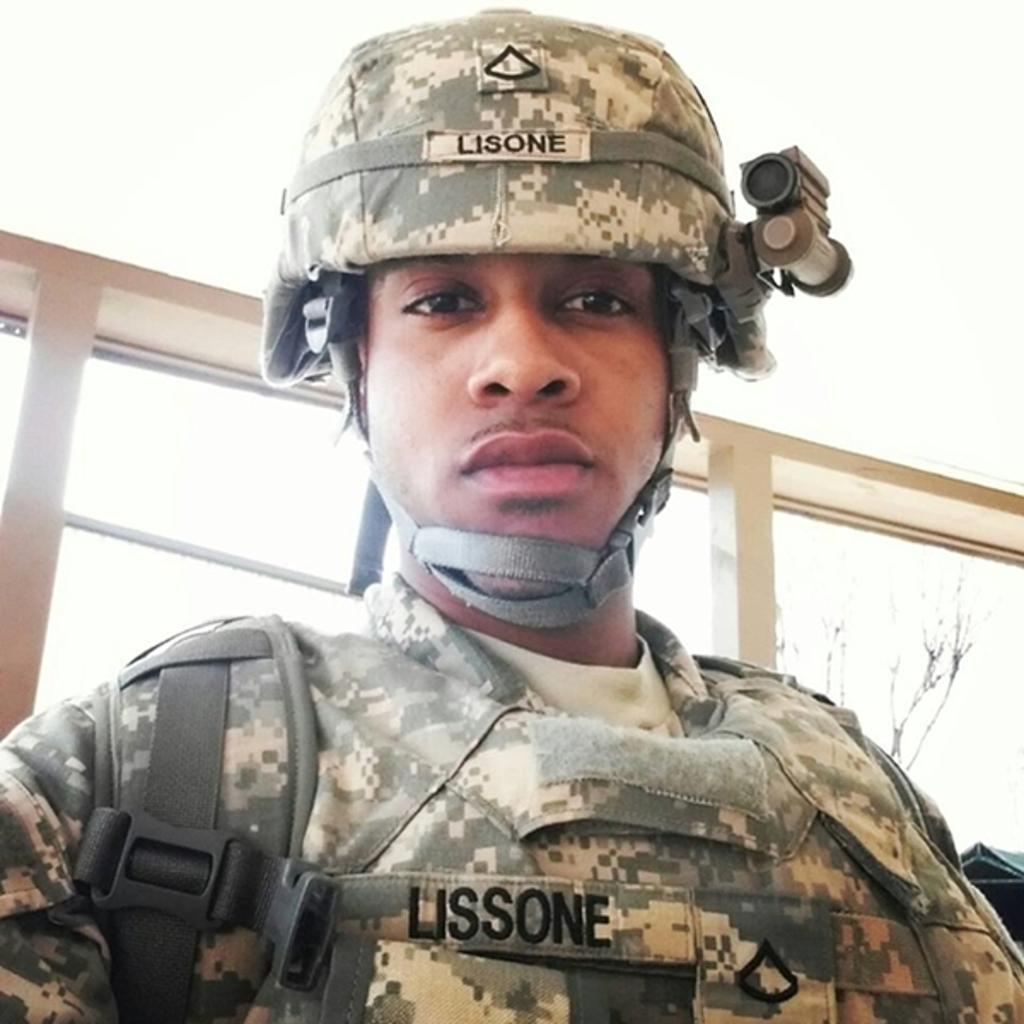face: (367, 169, 673, 589)
